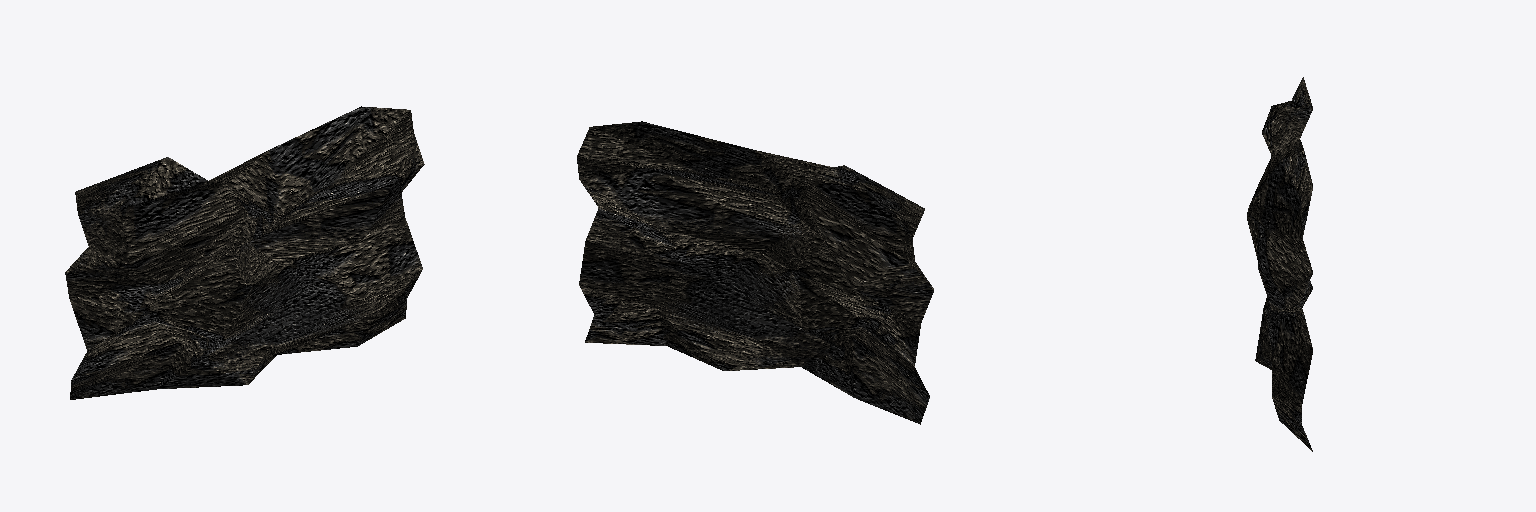
3 renders of one model, left to right at view 1: azimuth 30°, elevation 25°; view 2: azimuth 150°, elevation 25°; view 3: azimuth 270°, elevation 25°, orthographic.
Parts seen in each view (by area): view 1: Box001; view 2: Box001; view 3: Box001.
Boxes of the visible parts, x1,y1,x2,y2 form: Box001: [65, 106, 424, 399]; Box001: [577, 121, 933, 424]; Box001: [1247, 77, 1312, 451].
Size of the model in its own units: 95.76 by 58.97 by 15.49.
1 materials, 1 textured.